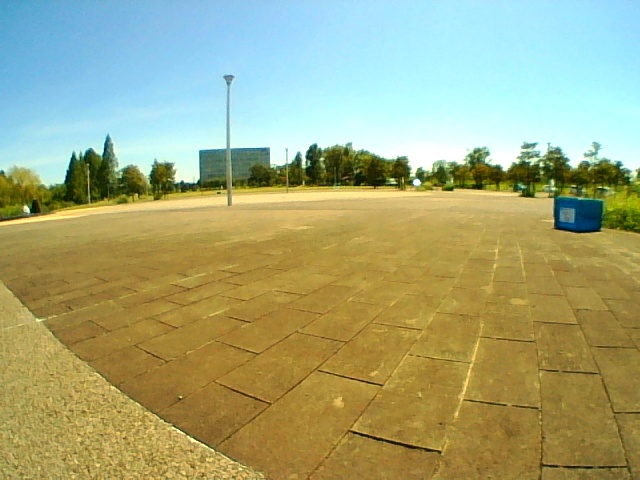blue_box: (553, 199, 602, 233)
tag: (560, 208, 573, 222)
